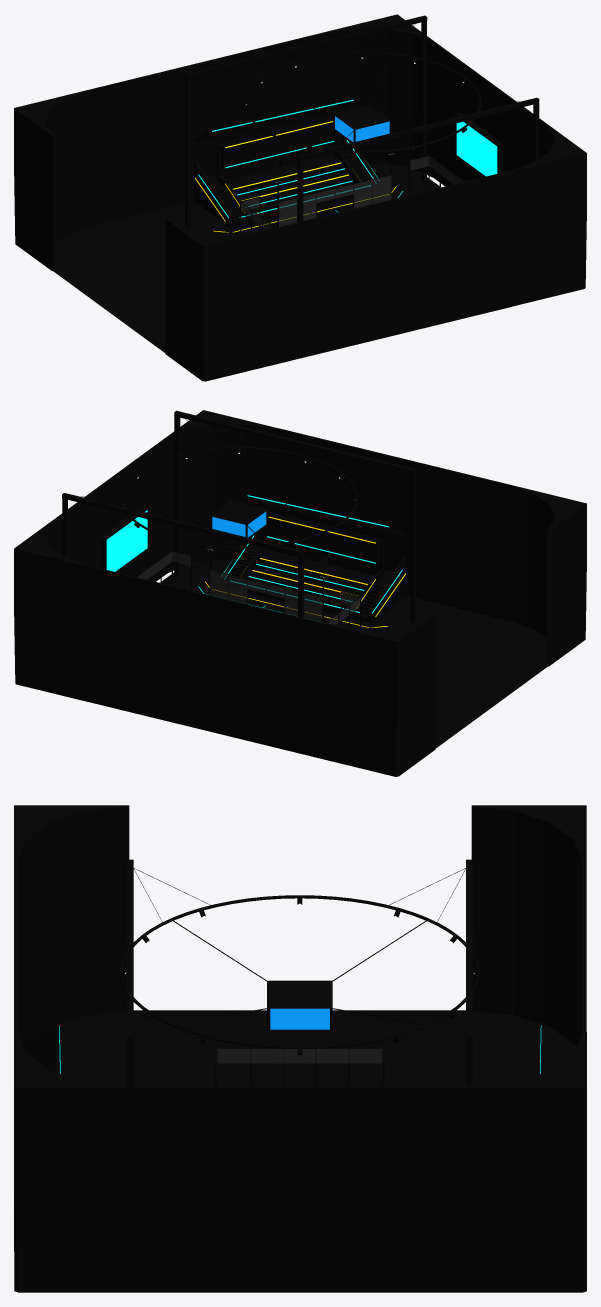
The model's file is TacPadel2.glb.
3 views of the same model, one above another, from view 1: azimuth 30°, elevation 25°; view 2: azimuth 150°, elevation 25°; view 3: azimuth 270°, elevation 25° (orthographic). The views are drawn at different scales.
Visible parts, largest first — view 1: Würfel.002, Tribüne, Boden, Stahlträger, Würfel.026, Videowürfel, Stahlträger.001, Stahlträger.002, Kreis, Gitter, Gitter.001; view 2: Würfel.002, Boden, Tribüne, Stahlträger, Würfel.026, Videowürfel, Stahlträger.002, Stahlträger.001, Kreis, Gitter, Gitter.001; view 3: Würfel.002, Boden, Videowürfel, Kreis, Tribüne, Stahlträger.001, Stahlträger.002, Glas.005, Glas.006, Zylinder, Stahlträger.
Boxes of the visible parts, x1,y1,x2,y2 form: Würfel.002: (14, 14, 586, 381); Tribüne: (193, 97, 532, 306); Boden: (52, 163, 439, 352); Stahlträger: (185, 21, 539, 227); Würfel.026: (454, 112, 503, 176); Videowürfel: (333, 105, 391, 142); Stahlträger.001: (185, 15, 427, 79); Stahlträger.002: (297, 97, 539, 161); Kreis: (243, 51, 481, 153); Gitter: (279, 175, 391, 226); Gitter.001: (303, 180, 372, 220); Würfel.002: (14, 410, 586, 776); Boden: (160, 559, 548, 748); Tribüne: (220, 492, 407, 622); Stahlträger: (62, 416, 415, 623); Würfel.026: (100, 506, 149, 572); Videowürfel: (209, 500, 268, 537); Stahlträger.002: (174, 410, 416, 474); Stahlträger.001: (62, 493, 303, 556); Kreis: (120, 446, 358, 548); Gitter: (210, 570, 322, 622); Gitter.001: (228, 575, 297, 616); Würfel.002: (14, 805, 586, 1292); Boden: (40, 1010, 560, 1086); Videowürfel: (267, 980, 332, 1031); Kreis: (119, 895, 479, 1048); Tribüne: (14, 1023, 576, 1251); Stahlträger.001: (466, 859, 472, 1042); Stahlträger.002: (127, 859, 133, 1042); Glas.005: (218, 1048, 381, 1063); Glas.006: (250, 1048, 348, 1063); Zylinder: (173, 920, 426, 1024); Stahlträger: (127, 1042, 472, 1086).
Bounding box in the file's own units: 40.86 × 16.79 × 34.98.
10 materials, 1 textured.
